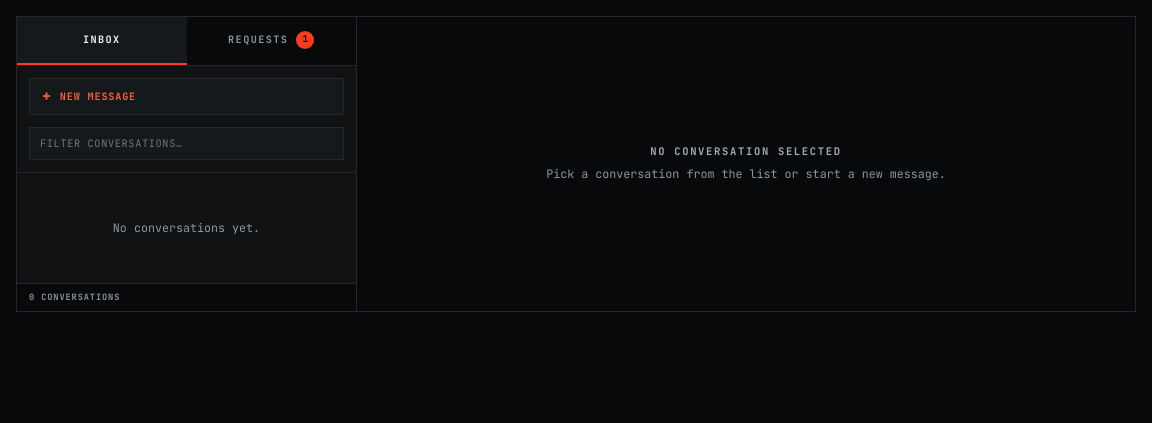
it: MessagingPanel › new message › says when nothing matches and when search fails
Click the button "+ NEW MESSAGE" at (98,96), box [29, 78, 344, 115]
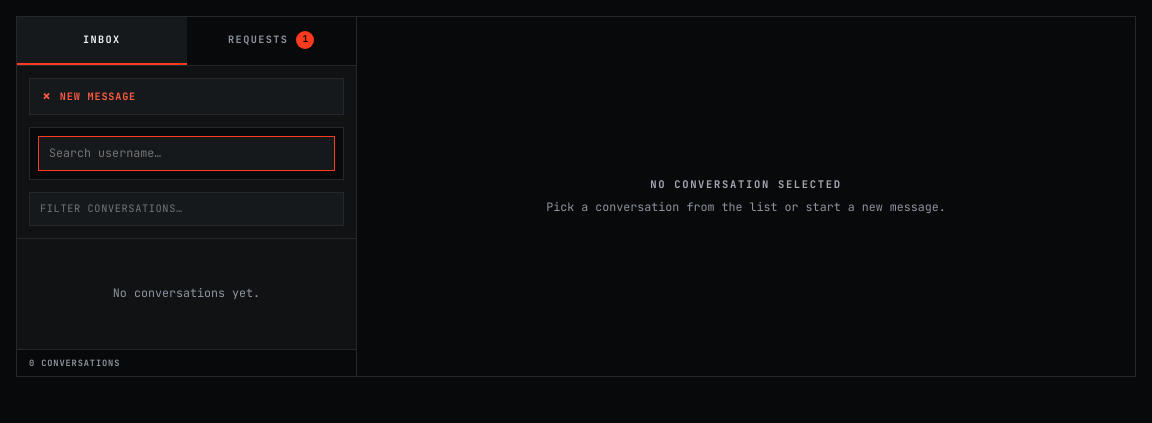
Type "nobody" into the field named "Search people to message" at (186,154), box [38, 136, 335, 171]
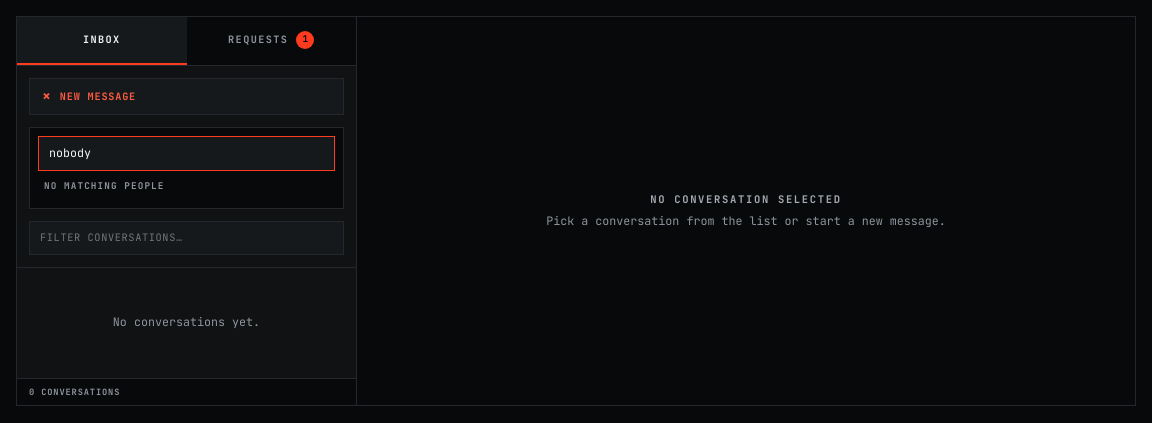
Result: the text "NO MATCHING PEOPLE" is shown at [44, 180, 164, 192]
Replace the text in the field named "Search people to message" with "again" at (186,154), box [38, 136, 335, 171]
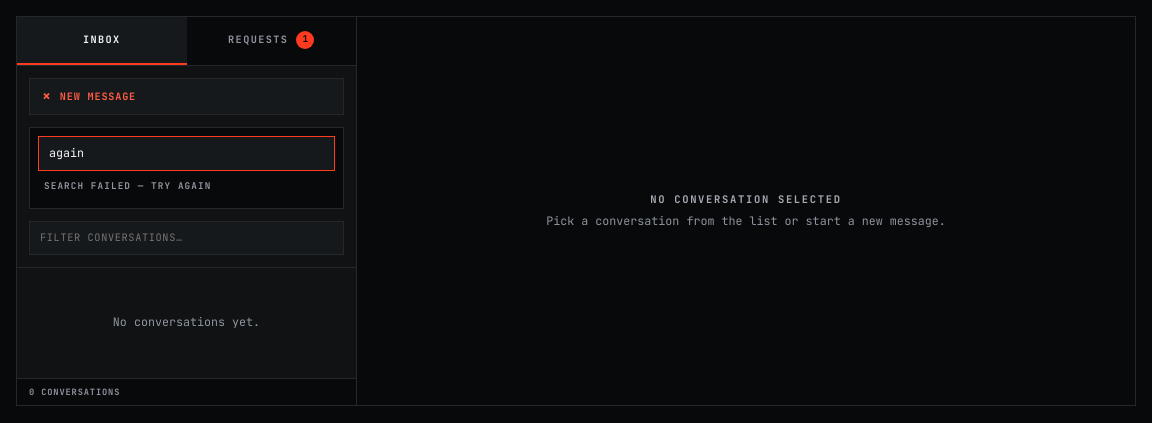
Result: the text "SEARCH FAILED — TRY AGAIN" is shown at [44, 180, 211, 192]
